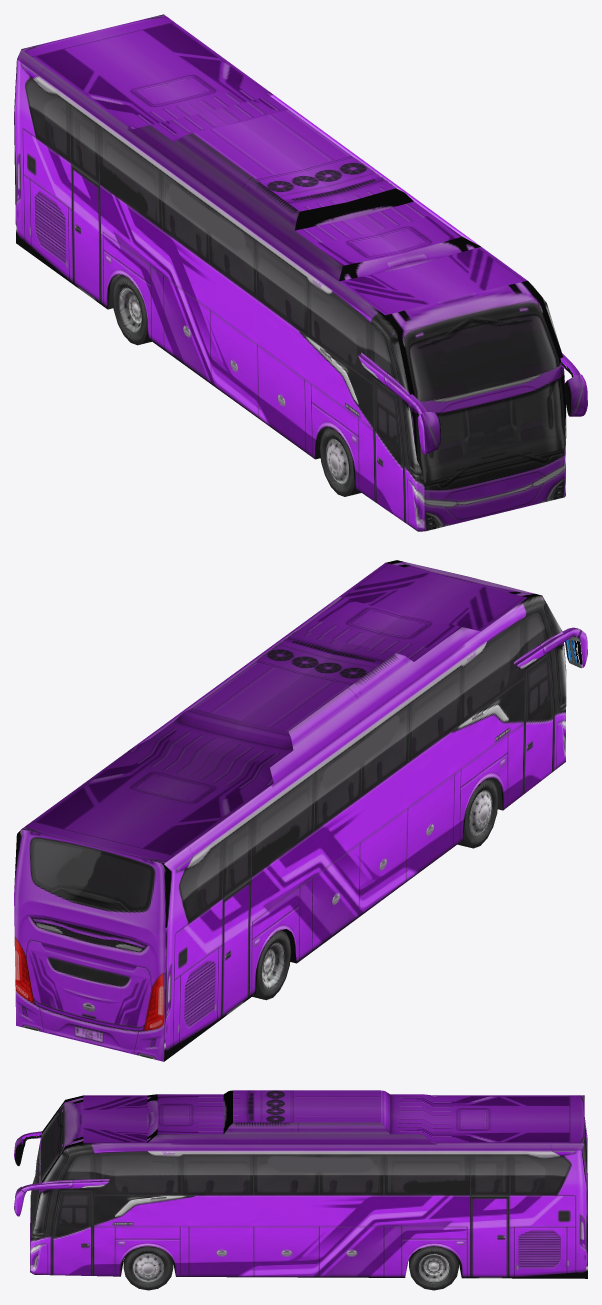
Rendered from jetbus5.glb.
The picture shows the model from 3 angles, top to bottom: view 1: azimuth 30°, elevation 25°; view 2: azimuth 150°, elevation 25°; view 3: azimuth 270°, elevation 25°; orthographic projection. The views are drawn at different scales.
Visible parts, largest first — view 1: Body, WheelRearR, WheelFrontR; view 2: Body, WheelFrontR, WheelRearR; view 3: Body, WheelRearL, WheelFrontL.
Part boxes in pixels (left/top/right/bottom): Body: left=14, top=14, right=587, bottom=531; WheelRearR: left=112, top=276, right=151, bottom=345; WheelFrontR: left=319, top=427, right=361, bottom=496; Body: left=14, top=560, right=587, bottom=1061; WheelFrontR: left=457, top=779, right=498, bottom=848; WheelRearR: left=252, top=930, right=291, bottom=1000; Body: left=14, top=1090, right=587, bottom=1278; WheelRearL: left=408, top=1246, right=458, bottom=1290; WheelFrontL: left=123, top=1246, right=173, bottom=1290.
Size of the model in its own units: 2.29 by 3.12 by 10.13.
Materials: 1 (1 with a texture image).
